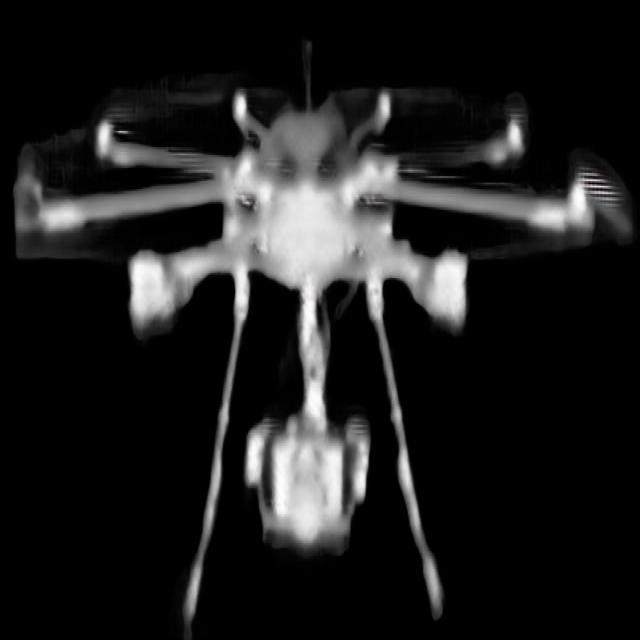drone: (14, 42, 636, 628)
